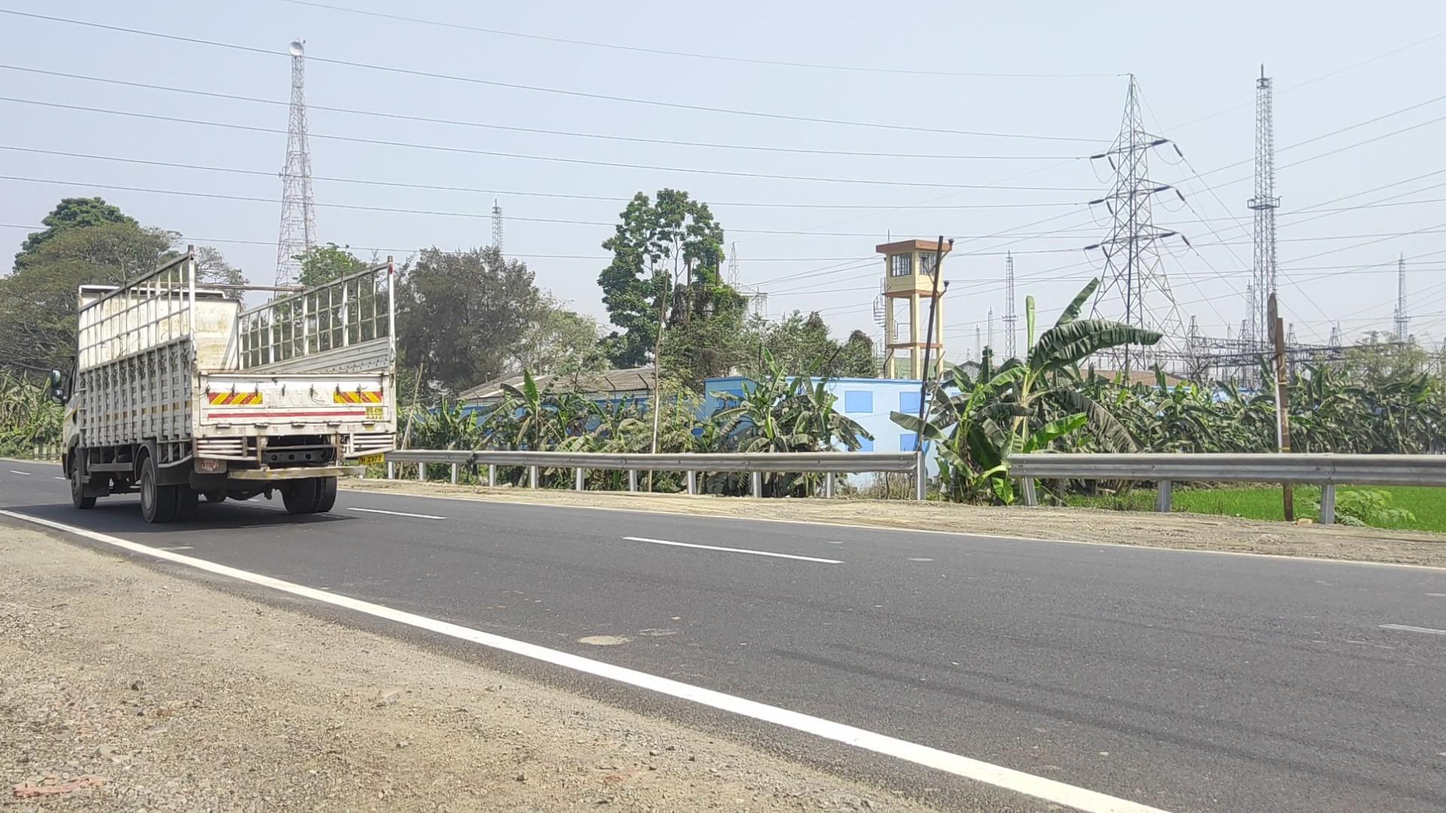van: (51, 245, 395, 524)
